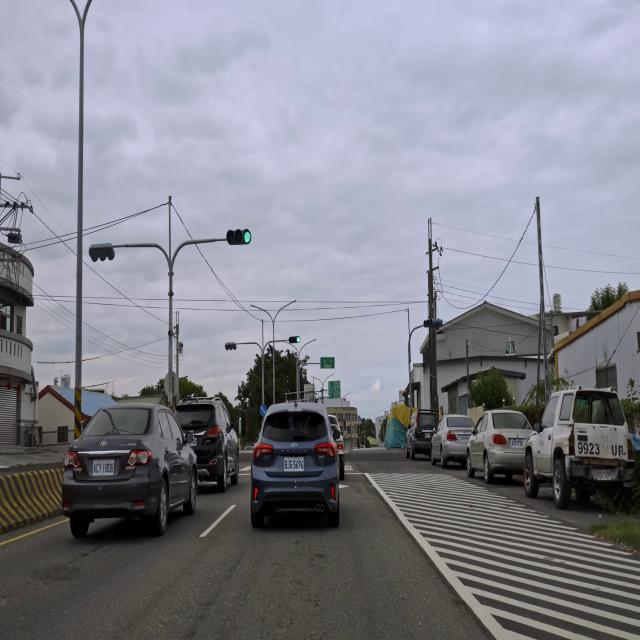green light: (226, 229, 252, 245), (288, 334, 301, 344)
